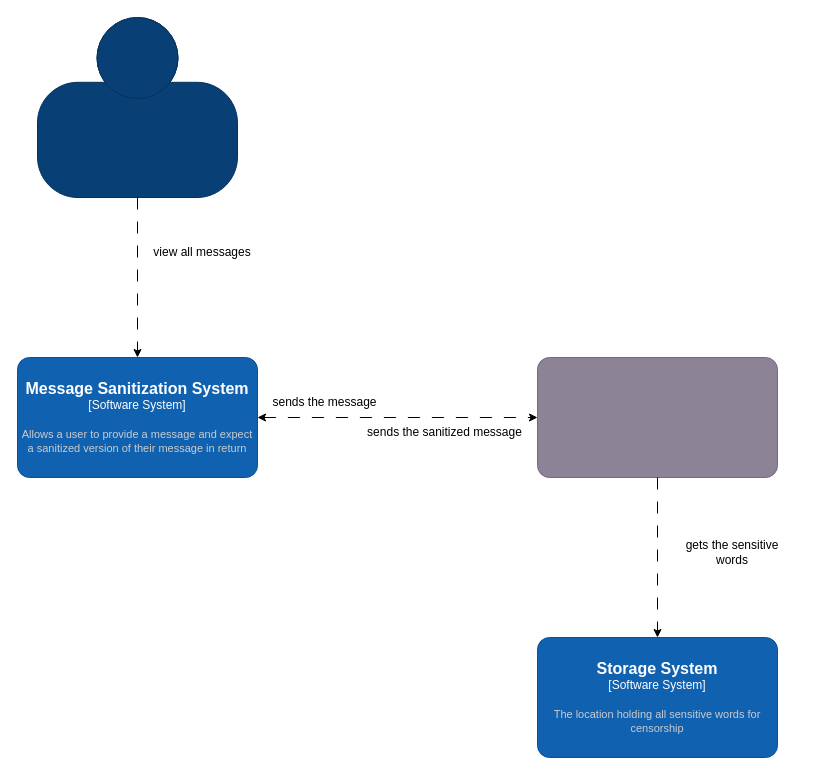
The diagram is 815 pixels wide and 775 high, and some of its shapes have lost their labels. Each missing label, with the centre of its shape:
"Censorship System [Software System] The external sanitization system" belongs at (x=657, y=417).
"User [Person] A user sending a message" belongs at (x=137, y=107).
